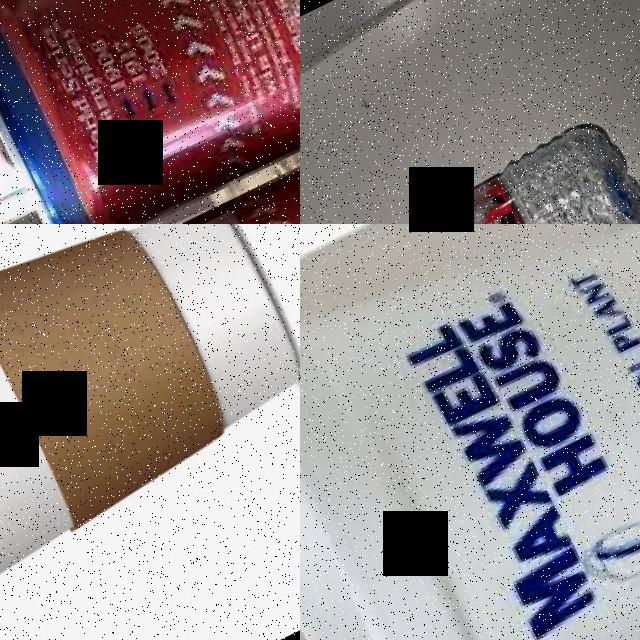bottle: (300, 110, 640, 224)
can: (0, 0, 300, 224), (63, 105, 300, 224)
cup: (300, 224, 640, 640), (0, 224, 300, 624)
